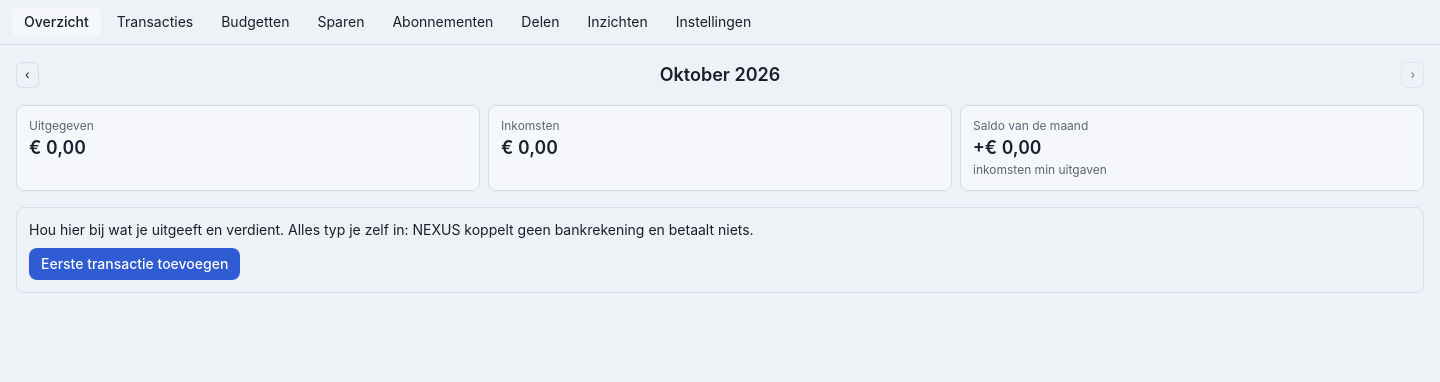
Test case: Financiën › carries what is left of a budget into the next month when asked
The image size is (1440, 382).
Click the tab "Budgetten".
click(255, 22)  # box [209,8,301,36]
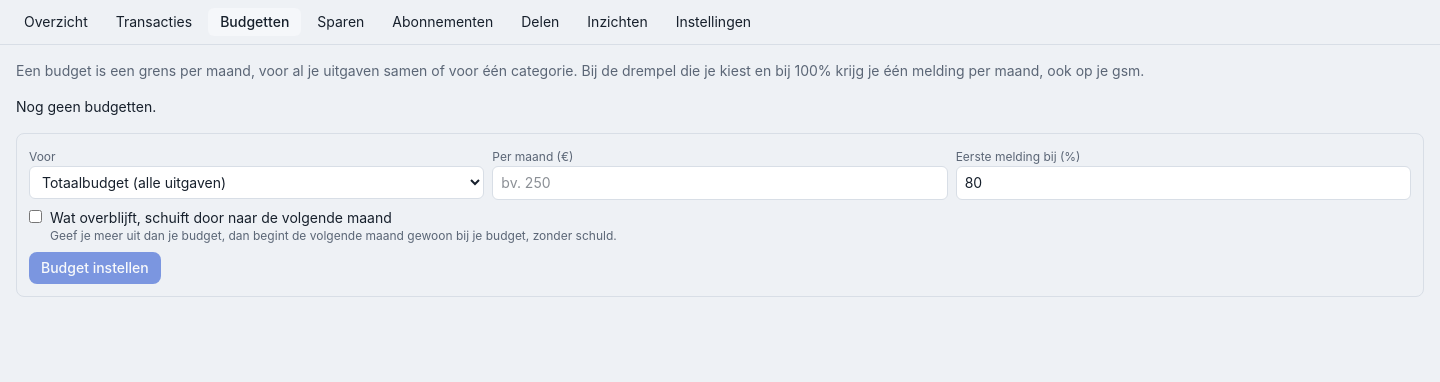
Type "100" into the field with placeholder "bv. 250".
click(720, 183); type("100")  # box [492,166,948,200]
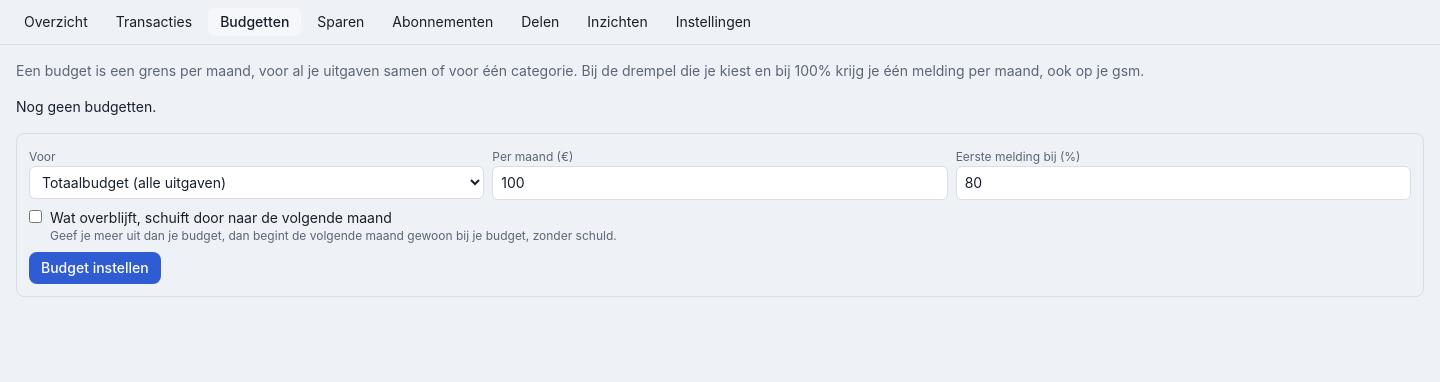
Click the checkbox labelled "schuift door".
click(36, 216)  # box [29,210,42,223]
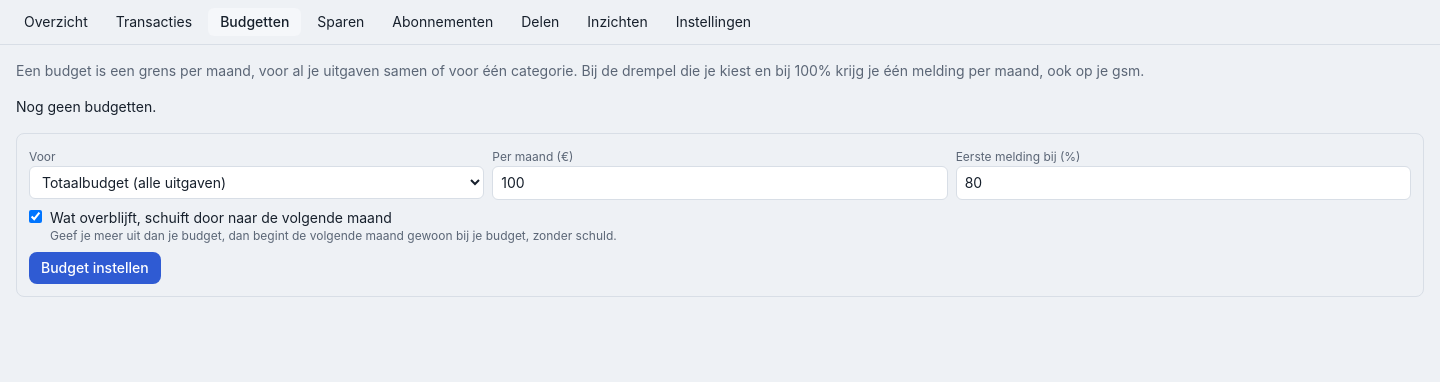
Click the button "Budget instellen".
click(95, 268)  # box [29,252,161,284]
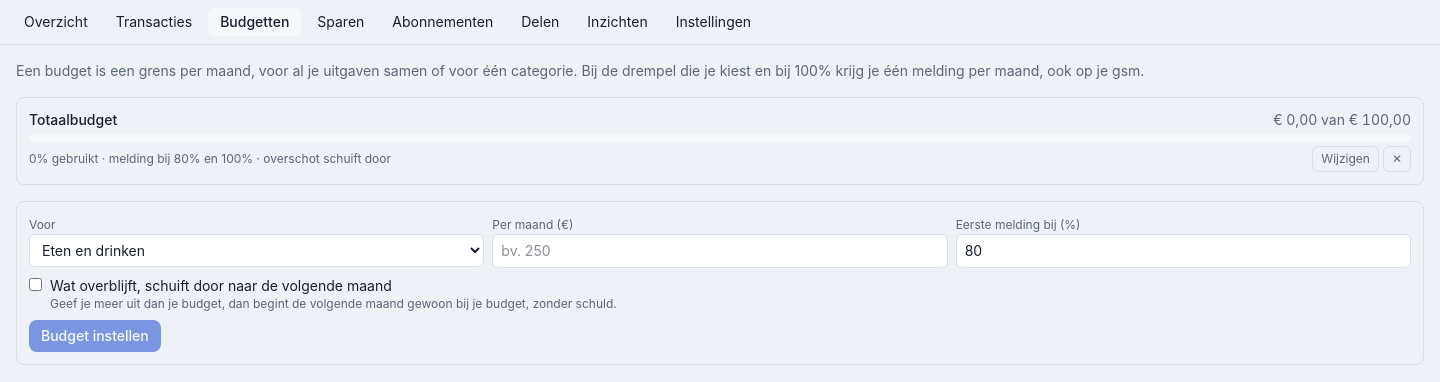
Expected: the text "overschot schuift door" is shown, [253,151,391,166]
